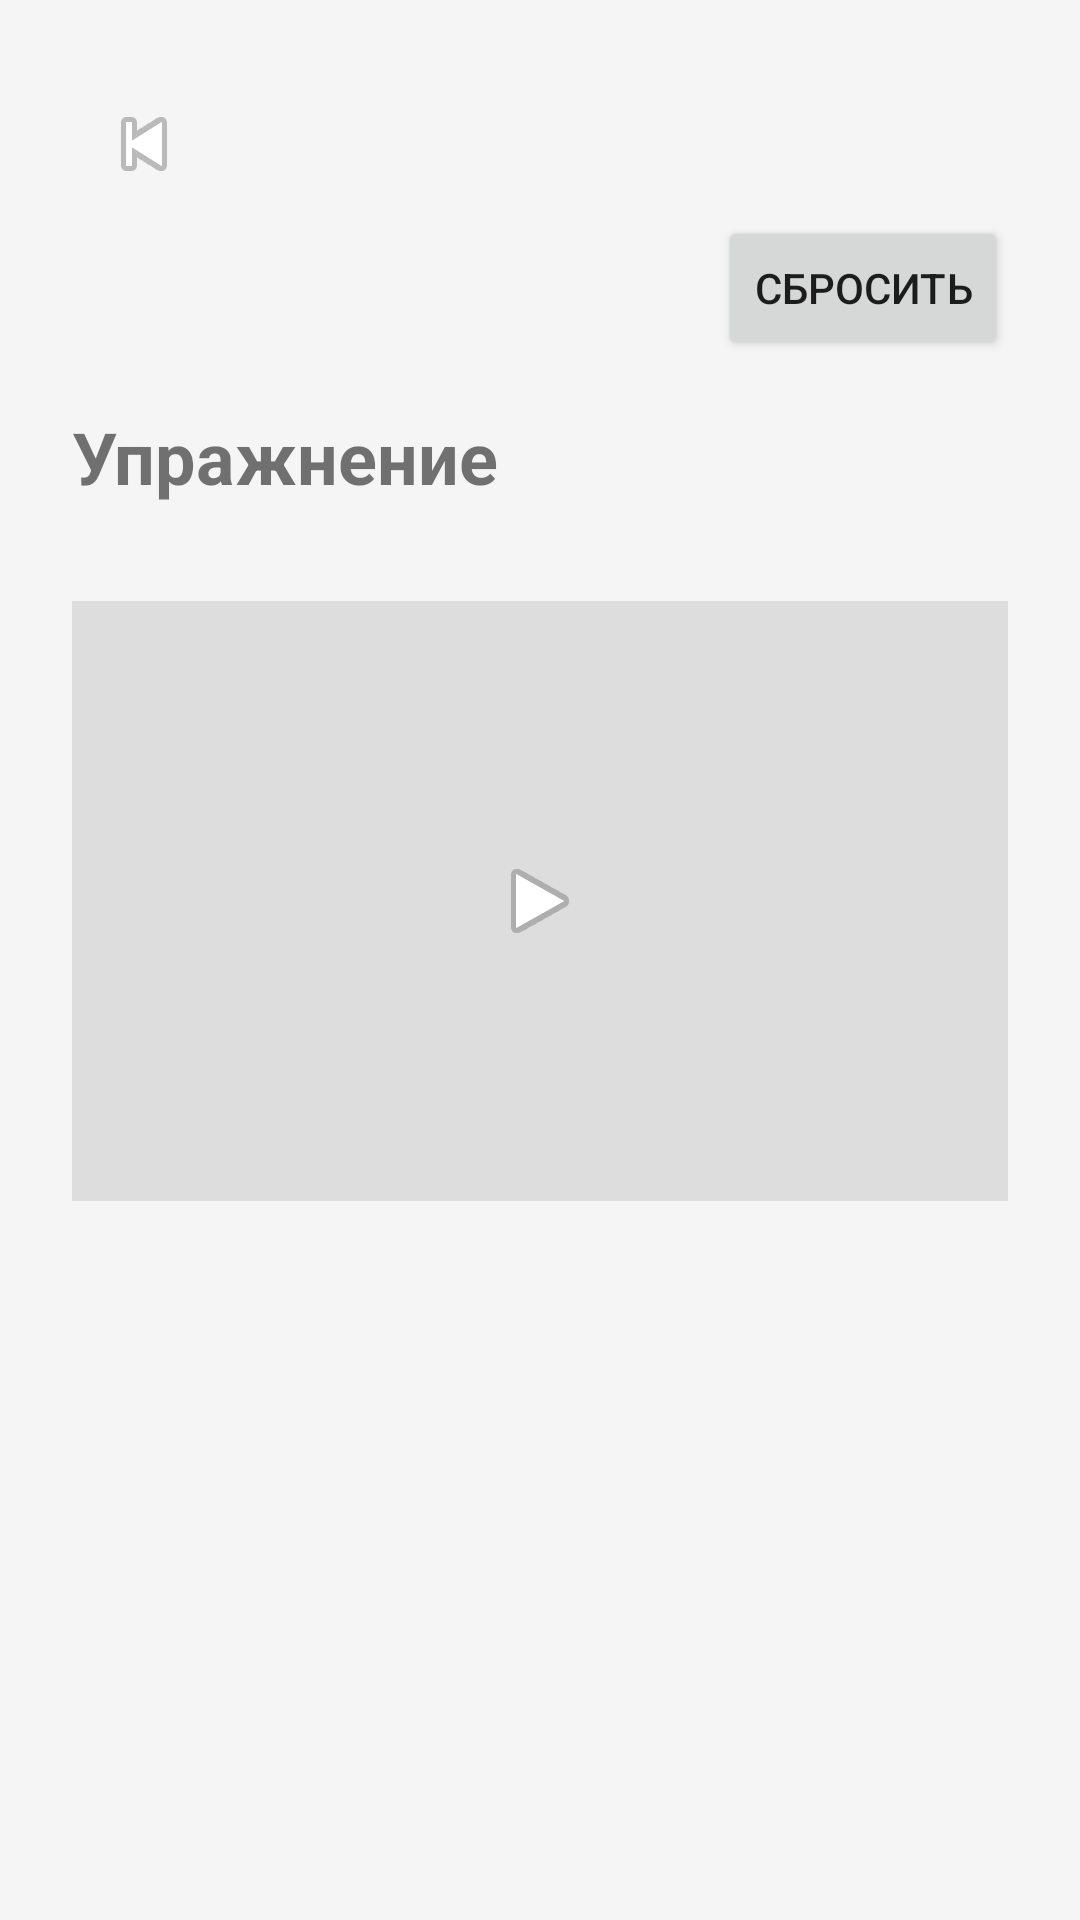

Icon click points for this 1080×1920 phone screenshot, format [x,y]:
play: [540,901]
Назад: [144,144]
